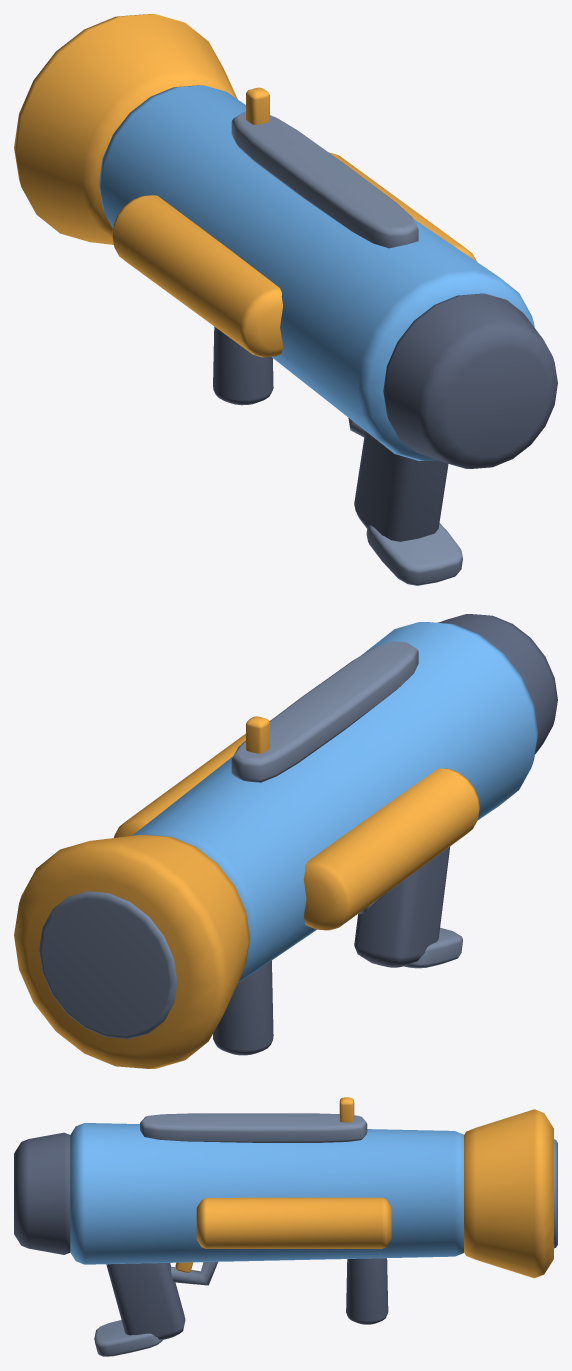
File: rocket.glb
3 renders of one model, top to bottom at view 1: azimuth 30°, elevation 25°; view 2: azimuth 150°, elevation 25°; view 3: azimuth 270°, elevation 25°, orthographic. The views are drawn at different scales.
Visible parts, largest first — view 1: Mesh_Chassis_Body, Sight; view 2: Mesh_Chassis_Body, Sight; view 3: Mesh_Chassis_Body, Sight.
Part boxes in pixels (<box>): Mesh_Chassis_Body: <box>14,14,557,585</box>; Sight: <box>231,87,418,248</box>; Mesh_Chassis_Body: <box>14,614,557,1068</box>; Sight: <box>231,641,418,782</box>; Mesh_Chassis_Body: <box>14,1109,557,1356</box>; Sight: <box>140,1097,367,1142</box>.
Bounding box in the file's own units: 0.236 × 0.3414 × 0.67.
